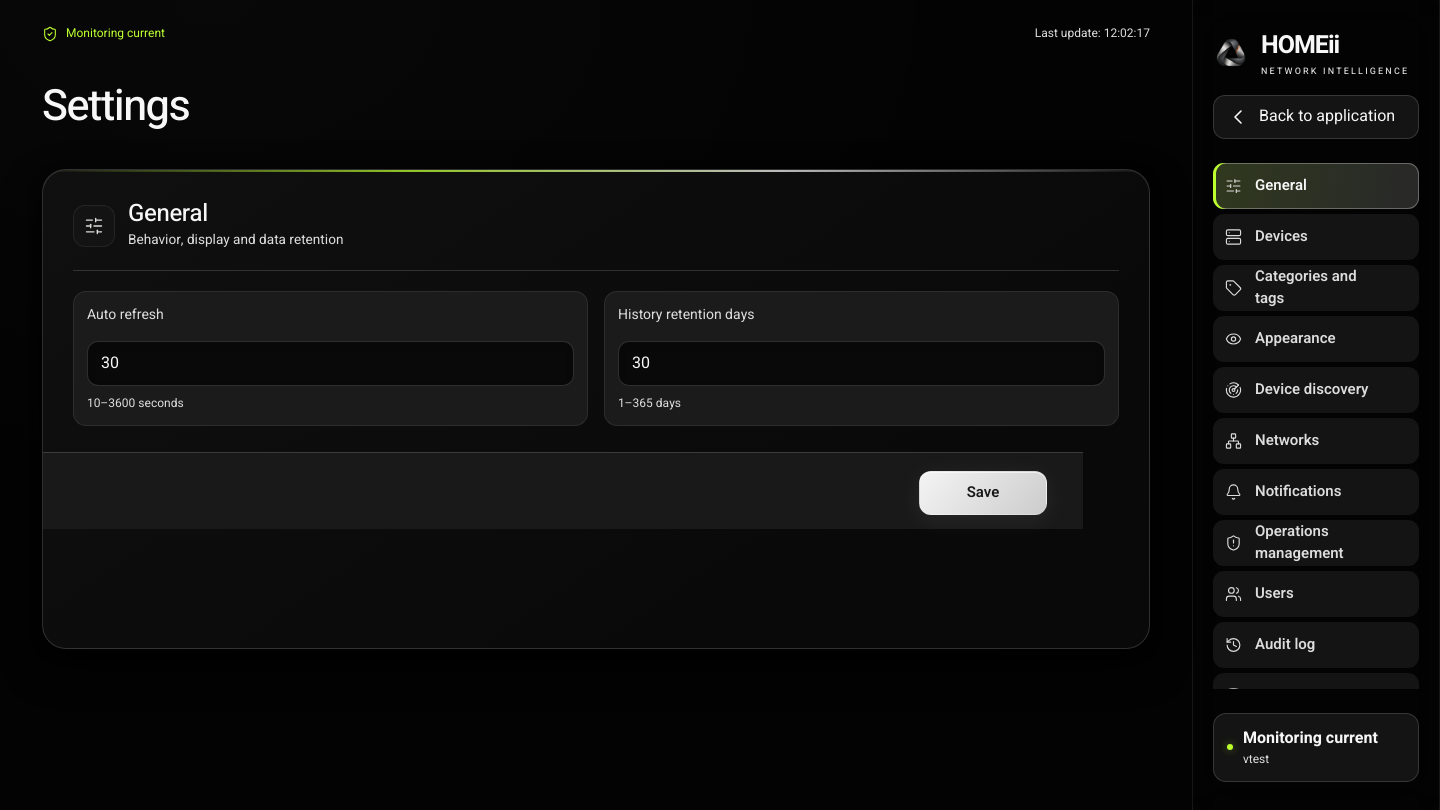
secondary forms and navigation › resets a user password through the existing update API
The width and height of the screenshot is (1440, 810).
Expected: the button "Back to application" is shown, x1=1213 y1=95 x2=1419 y2=139
Step 1. Click the button "Users" → [1316, 594], box x1=1213 y1=571 x2=1419 y2=617
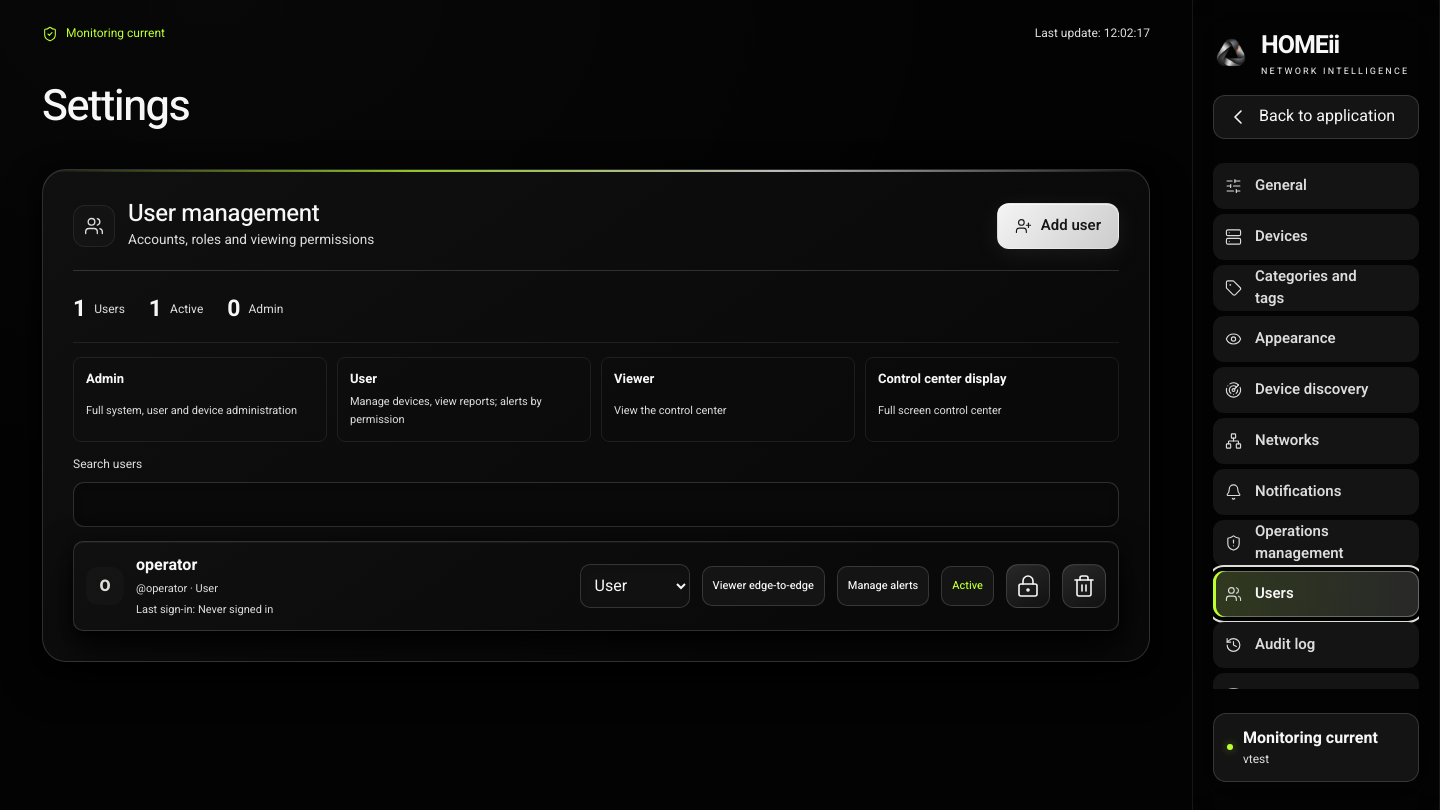
Step 2. Click the button named "Reset password operator" → [1028, 586], box x1=1006 y1=564 x2=1050 y2=608
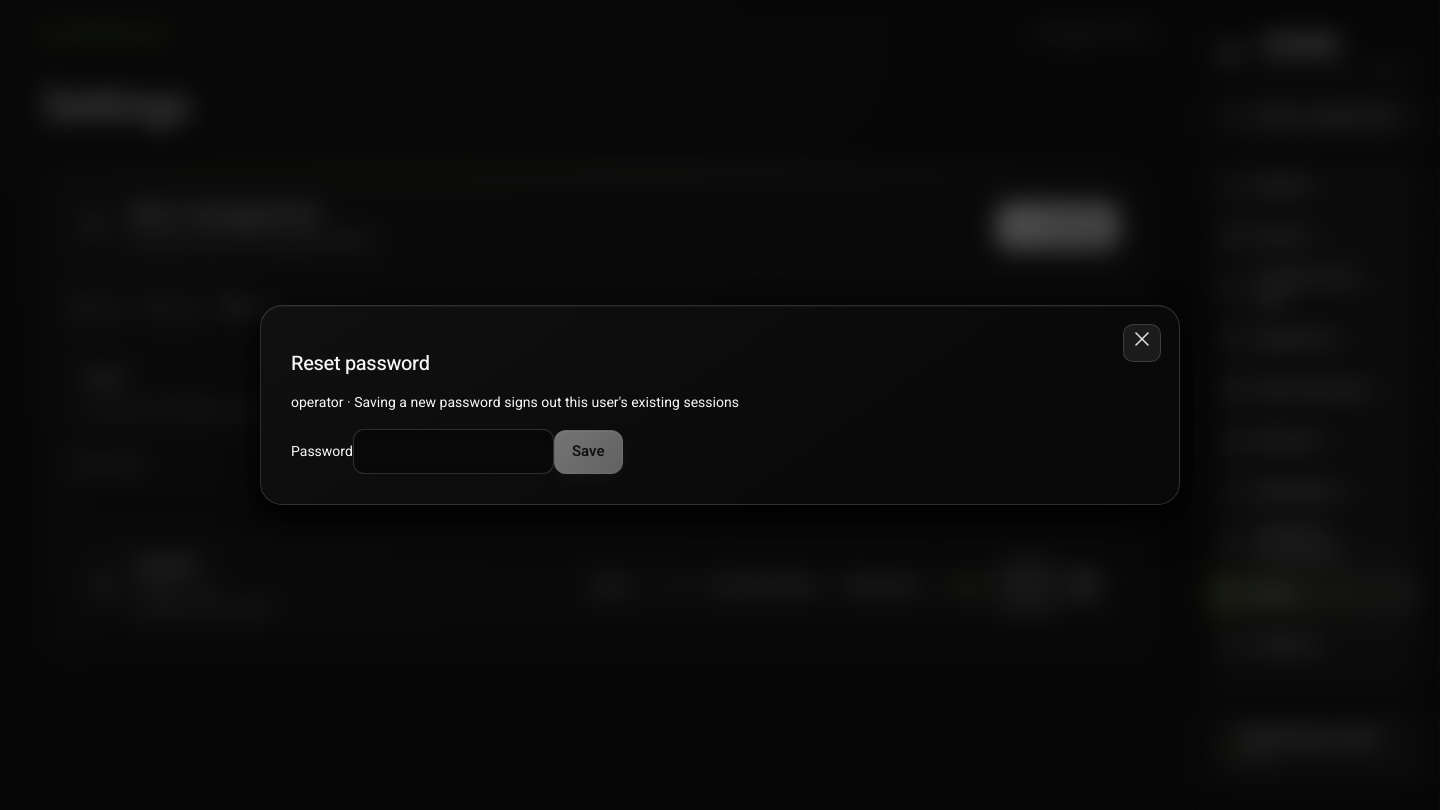
Step 3. Type "test-new-password" into the password field labelled "Password" → [454, 452], box x1=353 y1=429 x2=554 y2=474
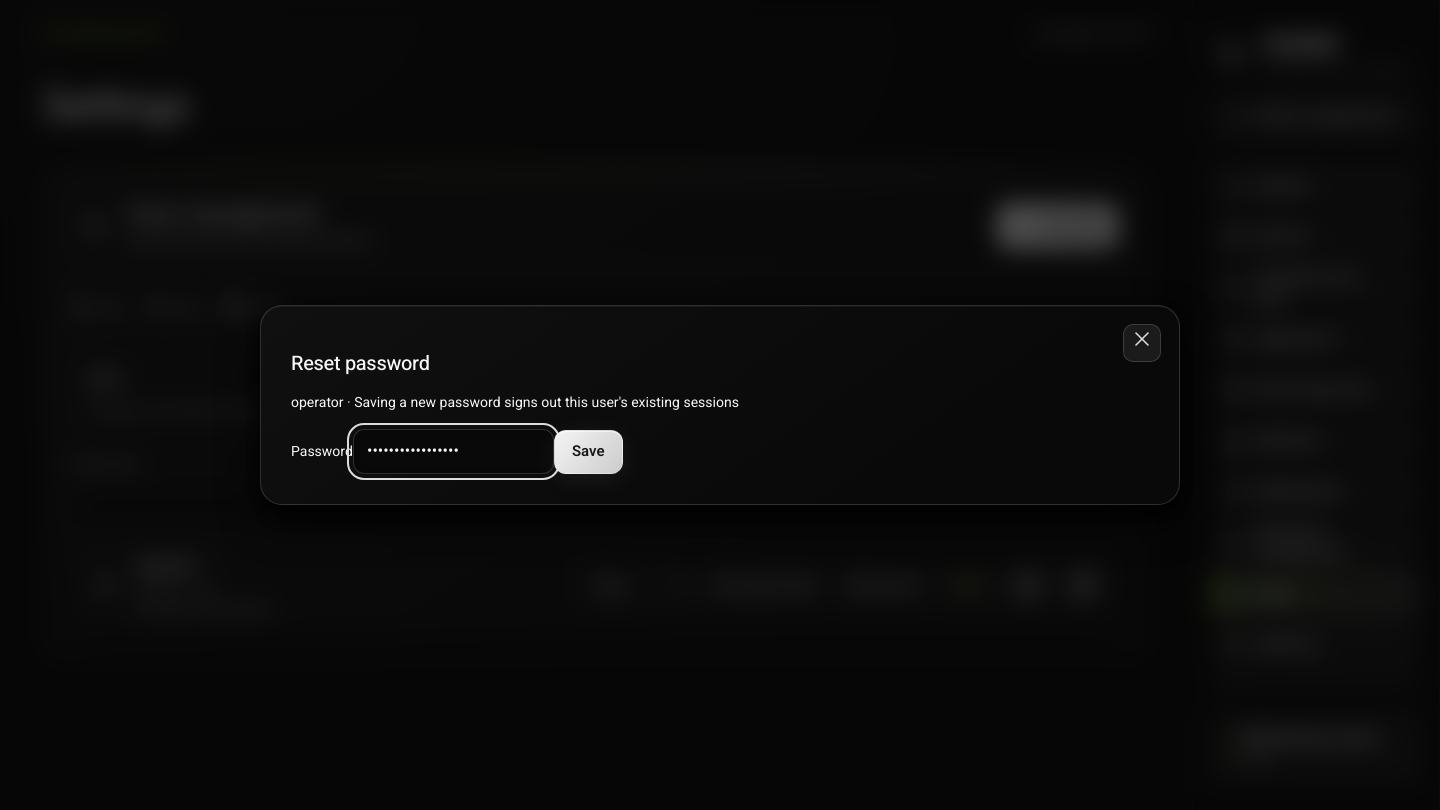
Step 4. Click the button "Save" → [588, 452], box x1=554 y1=430 x2=623 y2=474
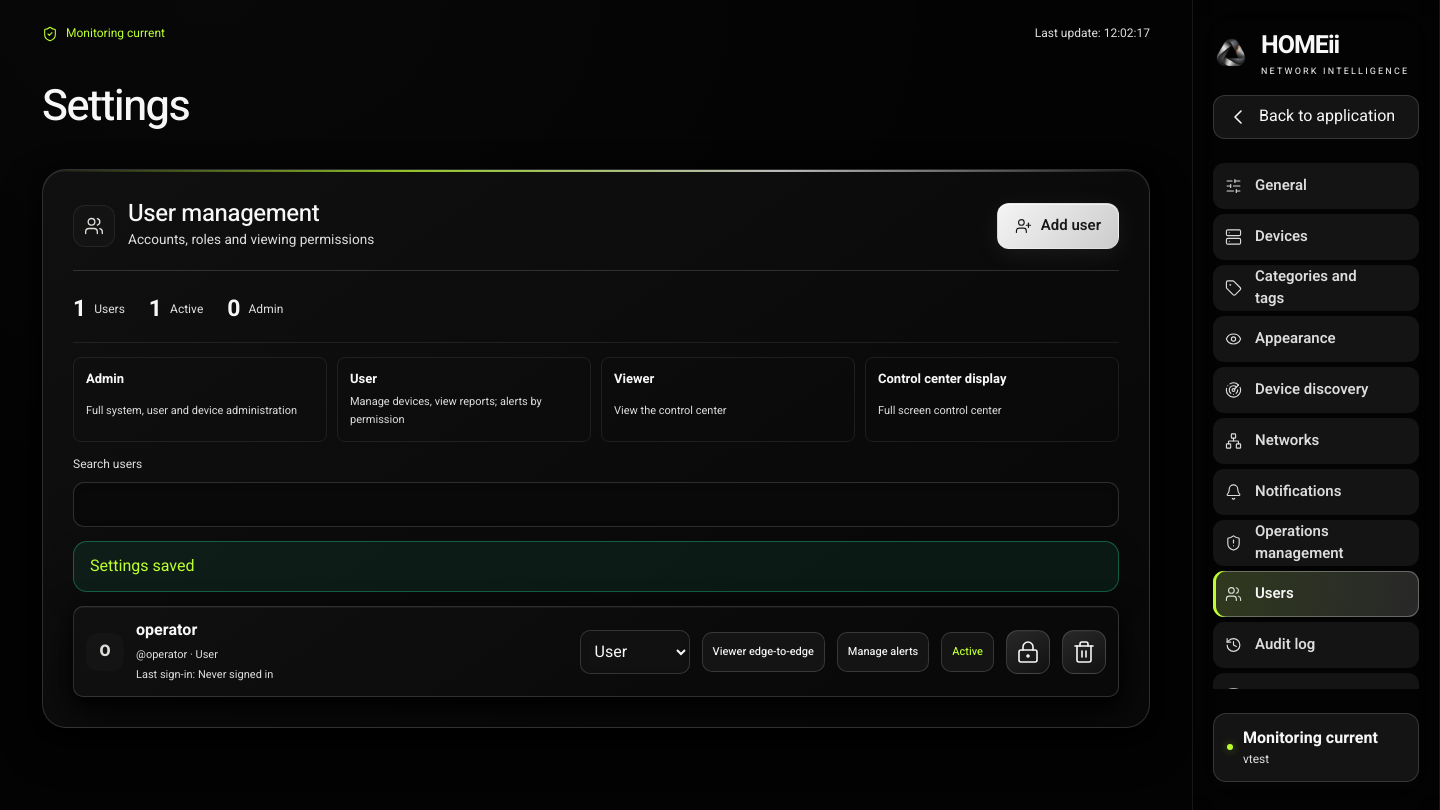
Now the dialog is gone
